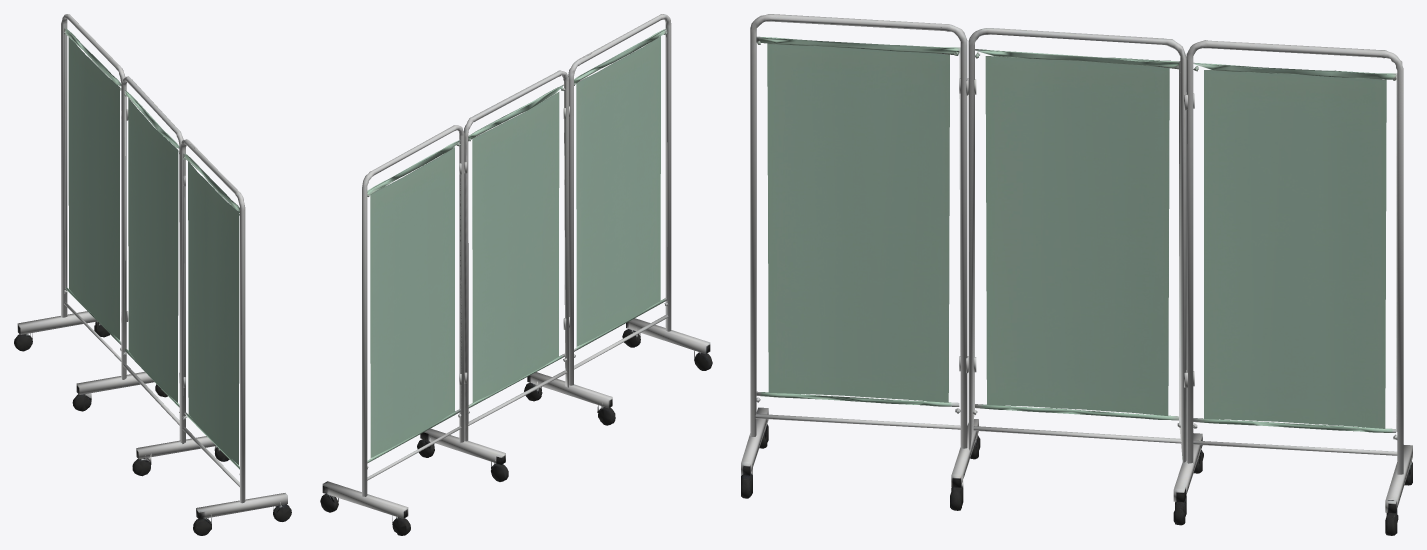
Rendered from upa_biombo.glb.
The picture shows the model from 3 angles, left to right: view 1: azimuth 30°, elevation 25°; view 2: azimuth 150°, elevation 25°; view 3: azimuth 270°, elevation 25°; orthographic projection. The views are drawn at different scales.
Parts seen in each view (by area): view 1: upa_biombo – Privacy Screen; view 2: upa_biombo – Privacy Screen; view 3: upa_biombo – Privacy Screen.
Boxes of the visible parts, <box> form: upa_biombo – Privacy Screen: <box>14,14,291,535</box>; upa_biombo – Privacy Screen: <box>320,14,712,535</box>; upa_biombo – Privacy Screen: <box>741,14,1412,535</box>.
Size of the model in its own units: 0.8275 by 1.8 by 2.39.
1 material, 1 textured.
